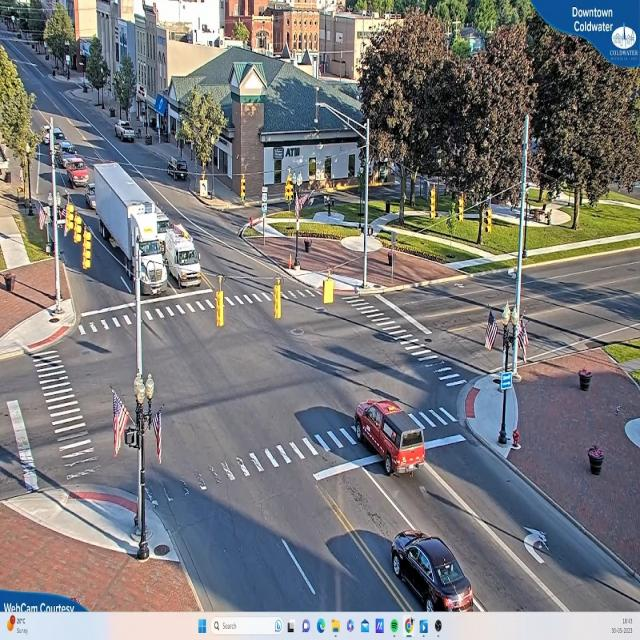car: (391, 532, 477, 612), (355, 401, 427, 478), (63, 155, 91, 187), (117, 121, 138, 143)
truck: (95, 162, 169, 294), (164, 224, 201, 285)
